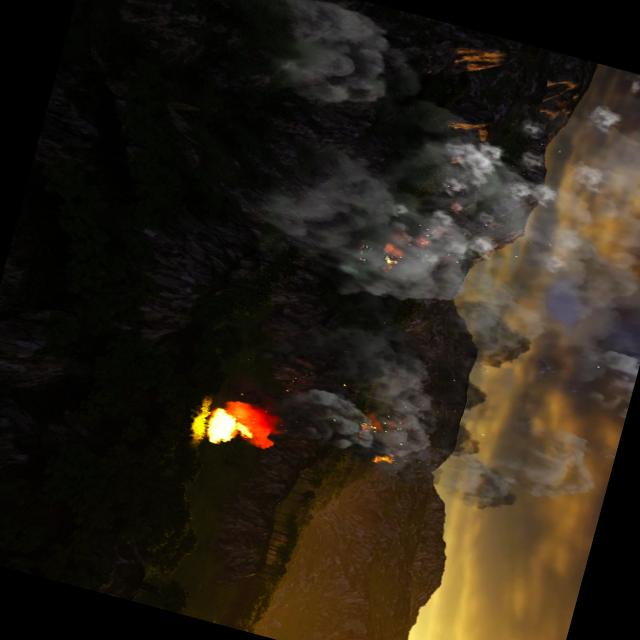fire: (199, 398, 257, 454), (381, 242, 408, 268), (362, 450, 396, 470)
smoke: (130, 0, 640, 539)
